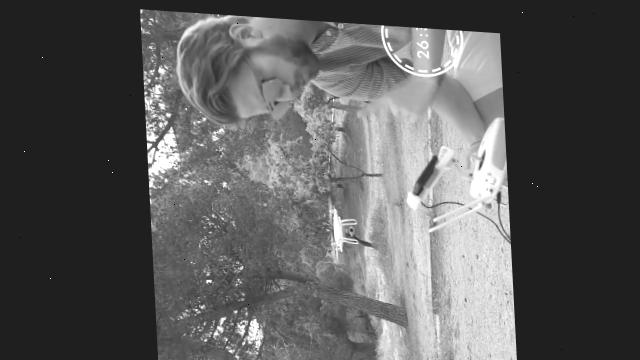drone: (321, 190, 358, 260)
